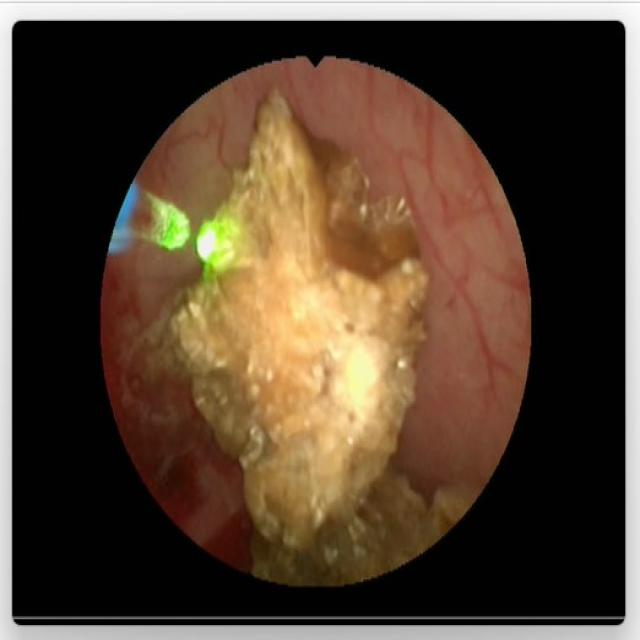stone: (152, 93, 473, 578)
